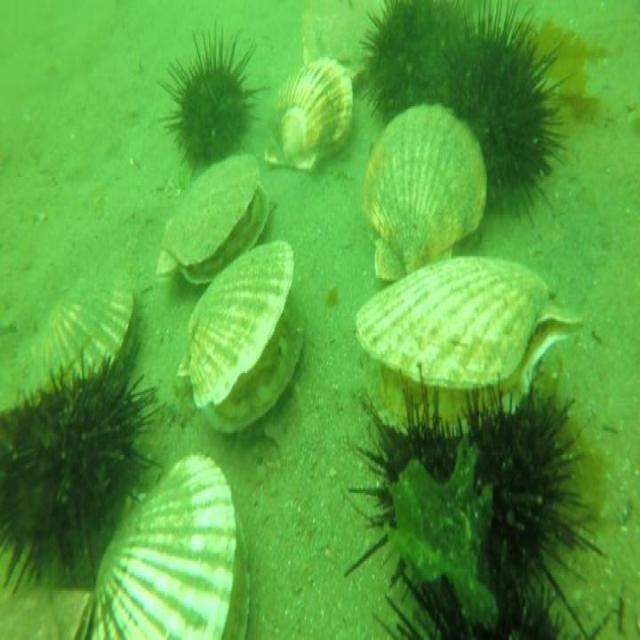echinus: (0, 368, 148, 584), (454, 363, 590, 584), (348, 370, 477, 588), (439, 0, 559, 213), (156, 20, 268, 166), (372, 558, 570, 640), (361, 0, 466, 128)
scallop: (350, 245, 582, 433), (88, 447, 252, 640), (178, 237, 306, 436), (358, 98, 489, 278), (0, 264, 142, 417), (154, 149, 269, 300), (264, 57, 355, 175), (296, 0, 382, 85)
